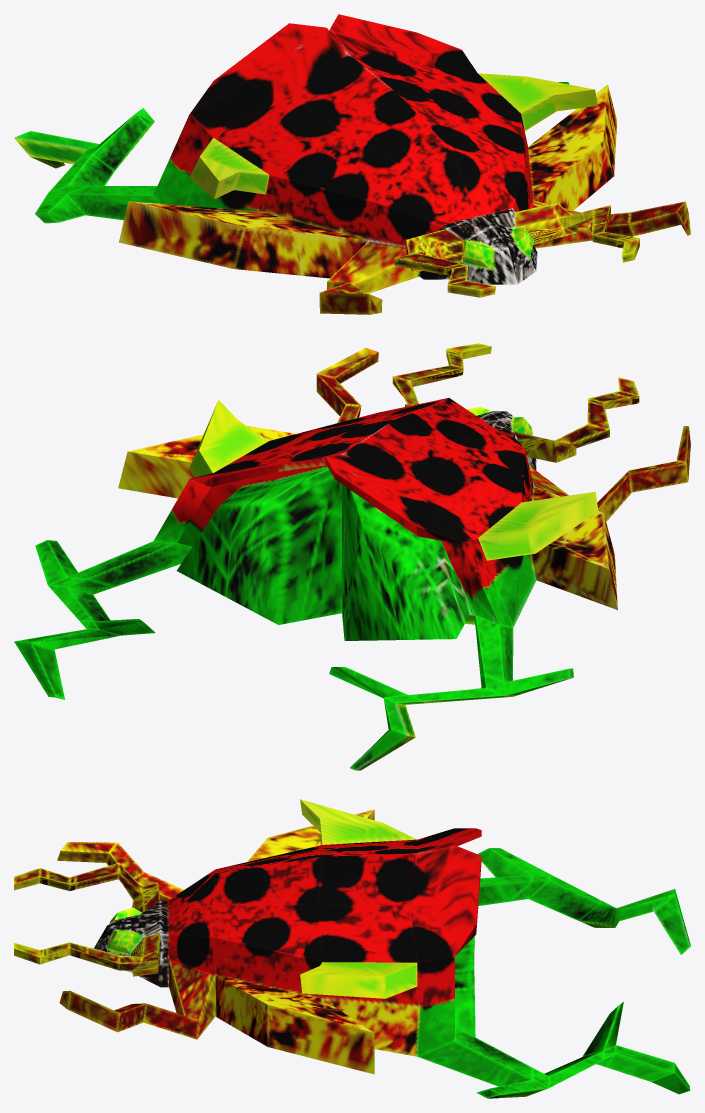
File: catarina1.obj
The picture shows the model from 3 angles, top to bottom: view 1: azimuth 30°, elevation 25°; view 2: azimuth 150°, elevation 25°; view 3: azimuth 270°, elevation 25°; orthographic projection. The views are drawn at different scales.
Parts seen in each view (by area): view 1: pCube1; view 2: pCube1; view 3: pCube1.
Boxes of the visible parts, x1,y1,x2,y2 form: pCube1: (14,14,690,314); pCube1: (14,343,690,770); pCube1: (14,799,690,1098).
Size of the model in its own units: 14.1 by 4.83 by 16.21.
